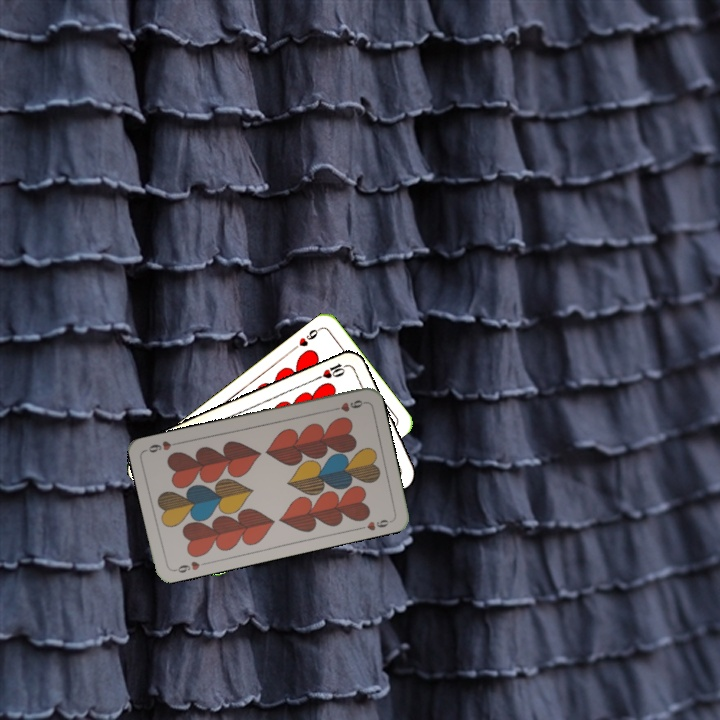H10: (313, 359, 352, 382)
H9: (289, 324, 323, 353), (327, 396, 367, 414), (170, 557, 210, 575)
